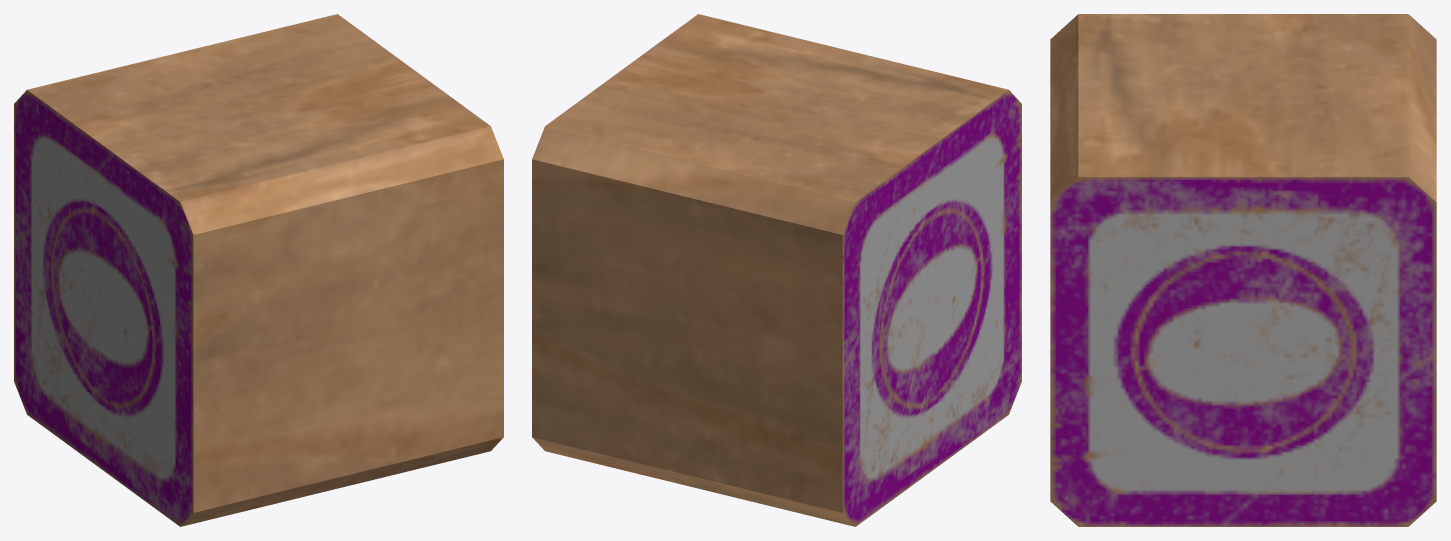
The model's file is block_O.obj.
3 views of the same model, side by side, from view 1: azimuth 30°, elevation 25°; view 2: azimuth 150°, elevation 25°; view 3: azimuth 270°, elevation 25° (orthographic). The views are drawn at different scales.
Size of the model in its own units: 0.2 by 0.2 by 0.2.
Materials: 1 (1 with a texture image).
